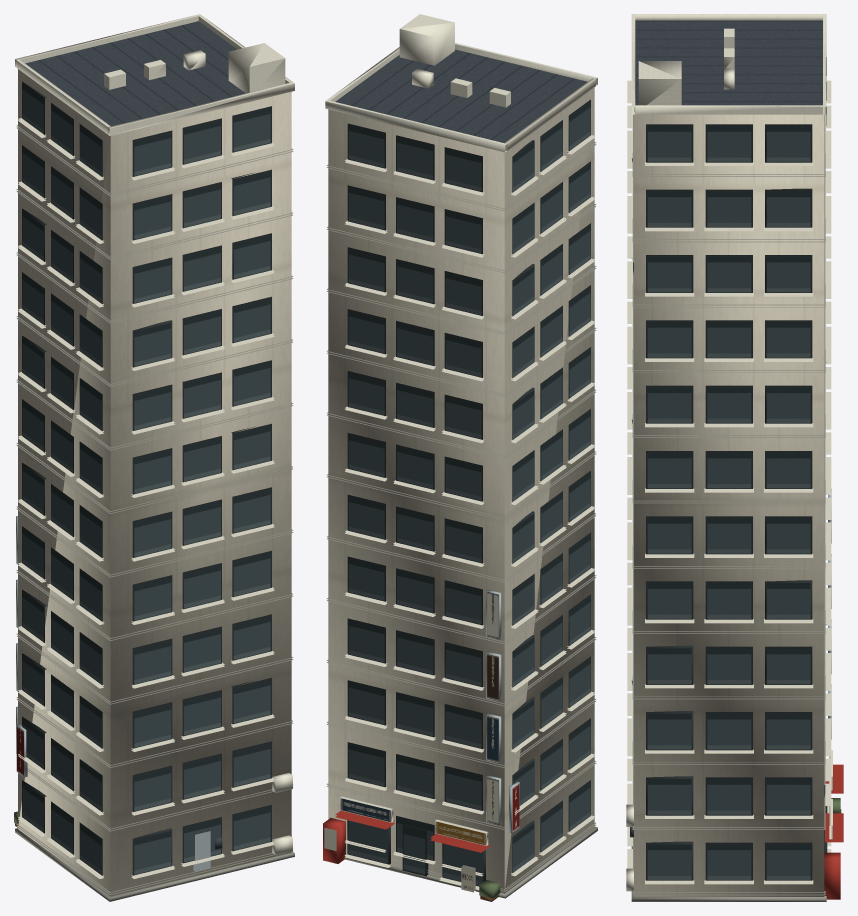
Rendered from office_006.lod1.obj.
3 renders of one model, left to right at view 1: azimuth 30°, elevation 25°; view 2: azimuth 150°, elevation 25°; view 3: azimuth 270°, elevation 25°, orthographic. The views are drawn at different scales.
Parts seen in each view (by area): view 1: office_006; view 2: office_006; view 3: office_006.
Boxes of the visible parts, box(x1,y1,x2,y2) form: office_006: box(14, 14, 294, 901); office_006: box(323, 14, 597, 901); office_006: box(626, 14, 843, 901).
Size of the model in its own units: 9.67 by 38.3 by 9.2.
1 material, 1 textured.
